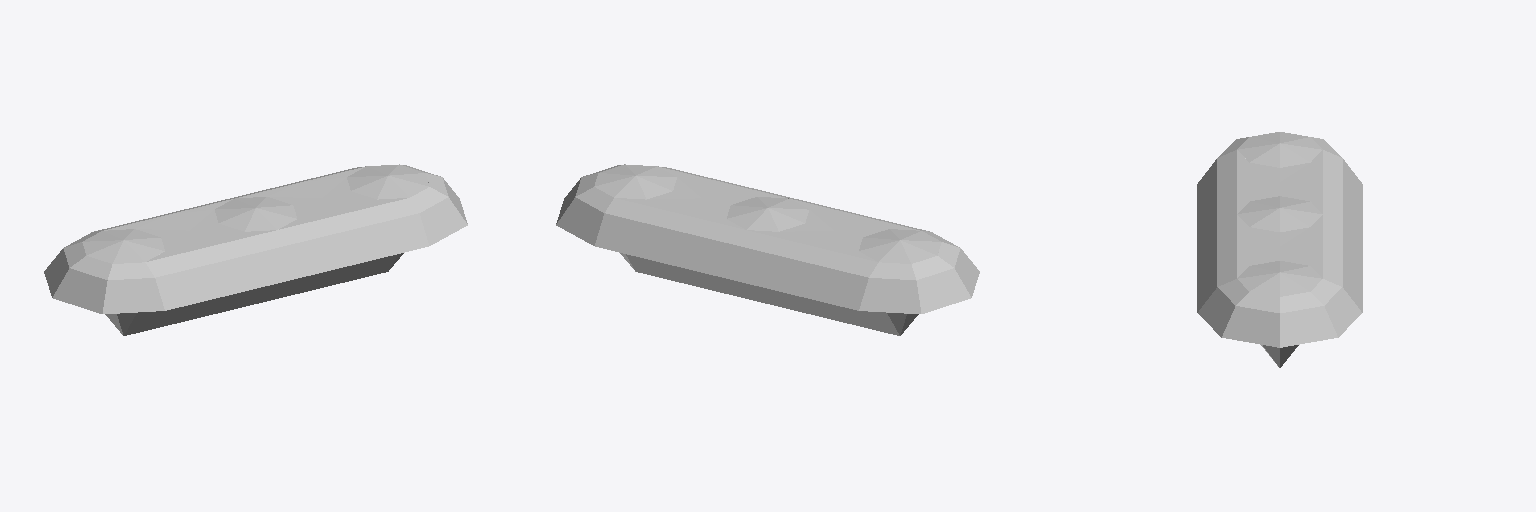
File: Wide Spring.obj
3 views of the same model, side by side, from view 1: azimuth 30°, elevation 25°; view 2: azimuth 150°, elevation 25°; view 3: azimuth 270°, elevation 25° (orthographic).
Size of the model in its own units: 1566 by 353 by 550.